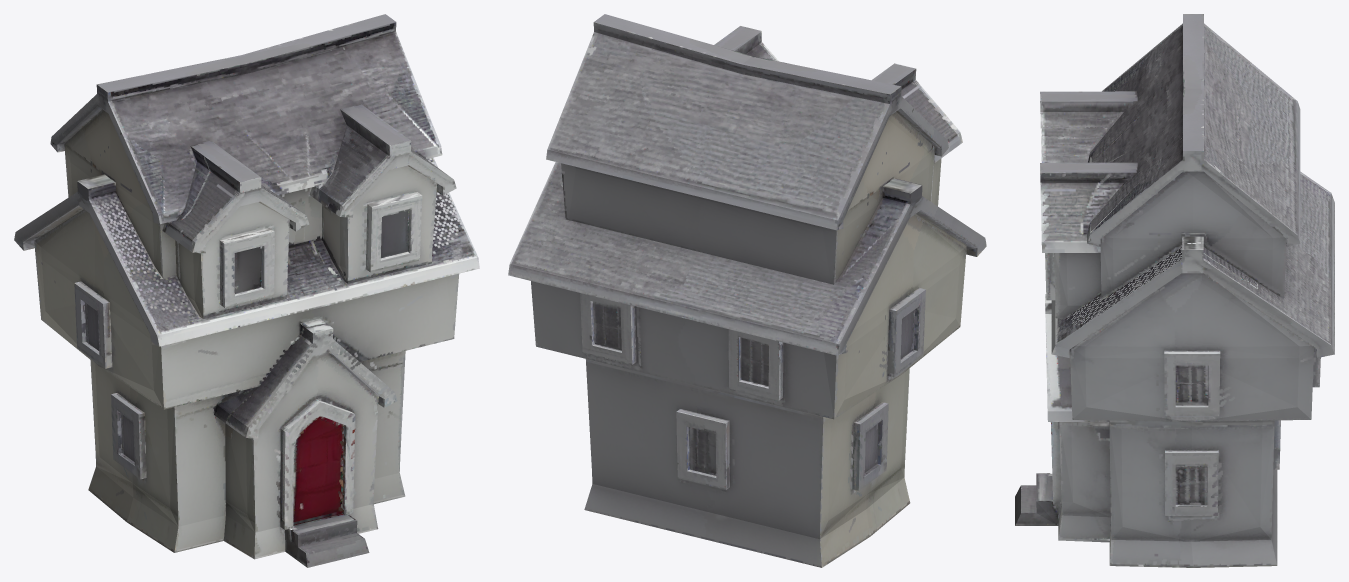
File: textured_text2tex.glb
3 views of the same model, side by side, from view 1: azimuth 30°, elevation 25°; view 2: azimuth 150°, elevation 25°; view 3: azimuth 270°, elevation 25° (orthographic). The views are drawn at different scales.
Parts seen in each view (by area): view 1: Node; view 2: Node; view 3: Node.
Boxes of the visible parts, left/top/right/bottom form: Node: left=14, top=14, right=479, bottom=567; Node: left=508, top=14, right=986, bottom=567; Node: left=1015, top=14, right=1334, bottom=567.
Bounding box in the file's own units: 0.7816 × 1 × 0.6764.
Materials: 1 (1 with a texture image).
